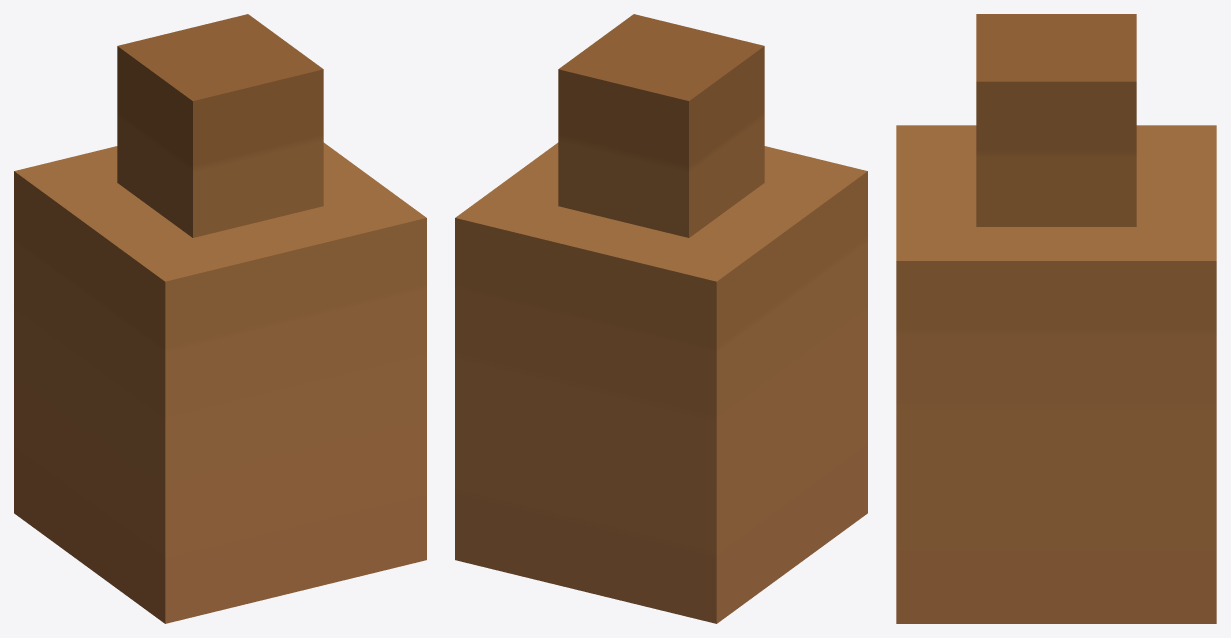
Rendered from Hip060.fbx.
3 views of the same model, side by side, from view 1: azimuth 30°, elevation 25°; view 2: azimuth 150°, elevation 25°; view 3: azimuth 270°, elevation 25° (orthographic). The views are drawn at different scales.
Parts seen in each view (by area): view 1: Hip060; view 2: Hip060; view 3: Hip060.
Part boxes in pixels (x1,y1,x2,y2): Hip060: [14, 14, 426, 623]; Hip060: [455, 14, 867, 623]; Hip060: [896, 14, 1216, 623].
Size of the model in its own units: 4 by 7 by 4.
